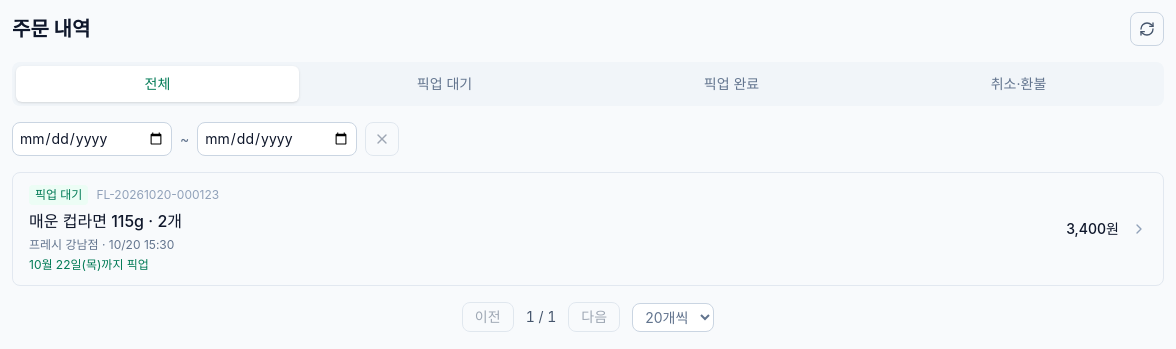
고객 주문 내역 (A3) › 시작 날짜가 끝 날짜보다 늦으면 빨간 안내만 띄우고 목록을 부르지 않는다
Check: the text "FL-20261020-000123" is shown, box [96, 187, 219, 203]
In the date field named "시작 날짜": coordinates (92, 139) [12, 122, 172, 156], type "2026-10-20"
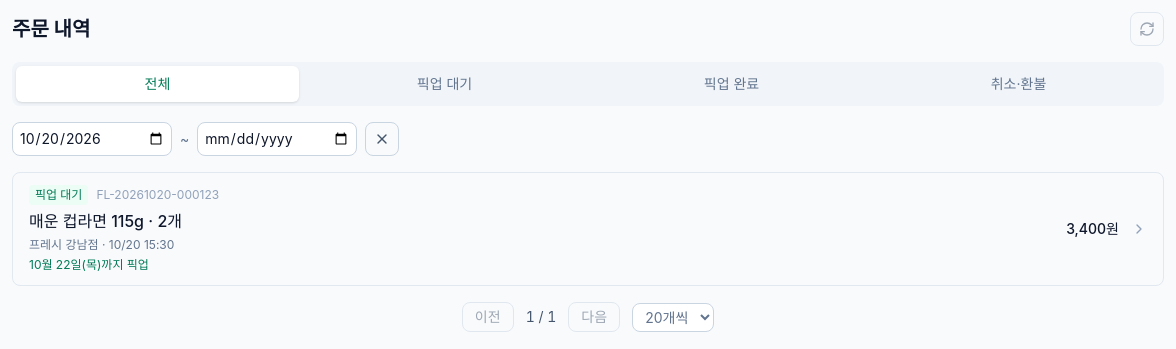
In the date field named "끝 날짜": coordinates (277, 139) [197, 122, 357, 156], type "2026-10-10"
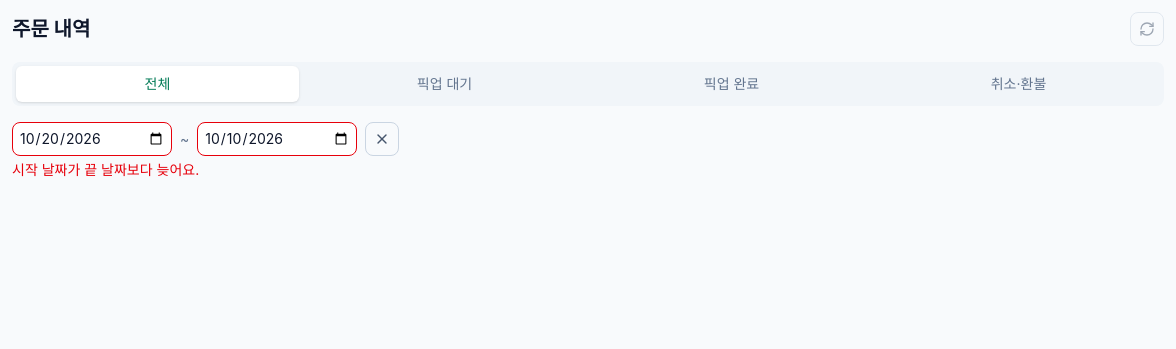
Check: the message reads "시작 날짜가 끝 날짜보다 늦어요.", box [12, 161, 199, 178]
Check: the link "FL-20261020-000123" is gone
// 끝 날짜를 고치면 다시 읽는다
In the date field named "끝 날짜": coordinates (277, 139) [197, 122, 357, 156], type "2026-10-25"
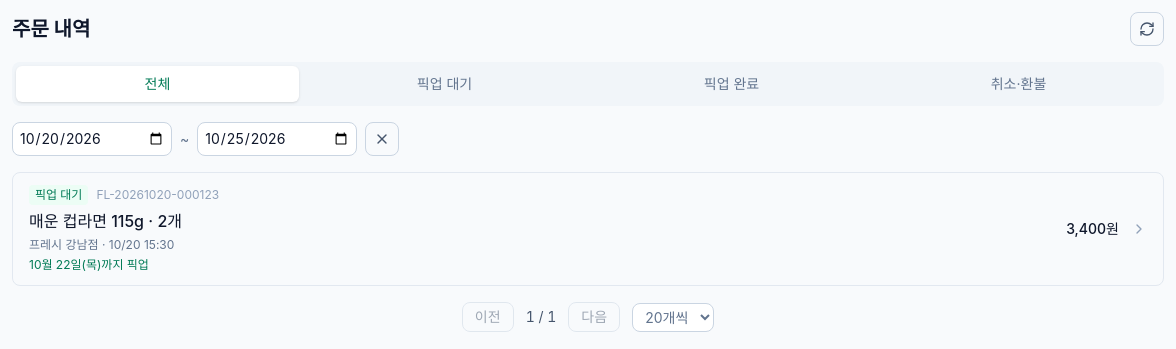
Check: the message "시작 날짜가 끝 날짜보다 늦어요." is gone
